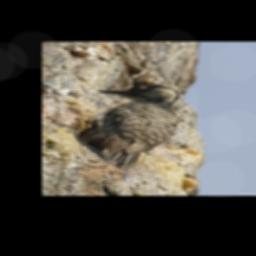Woodpecker: (76, 84, 180, 171)
